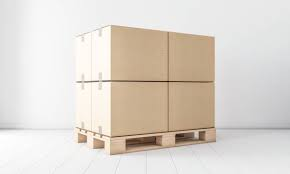box: (109, 24, 168, 84), (110, 80, 168, 137), (167, 31, 216, 83), (166, 81, 216, 131), (90, 79, 109, 138), (91, 24, 109, 81), (73, 81, 91, 133), (74, 31, 91, 84)
pallet: (71, 125, 218, 156)
